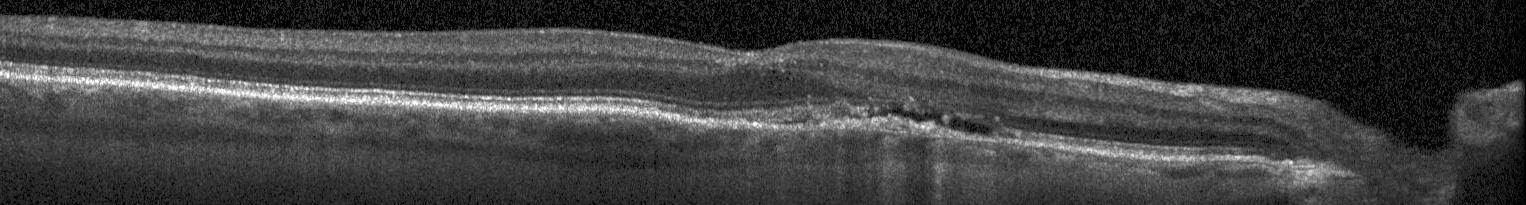neuroepithelium_detachment: (875, 104, 935, 120), (950, 117, 993, 135)
subretinal_hyperreflective_material: (793, 113, 967, 139)
